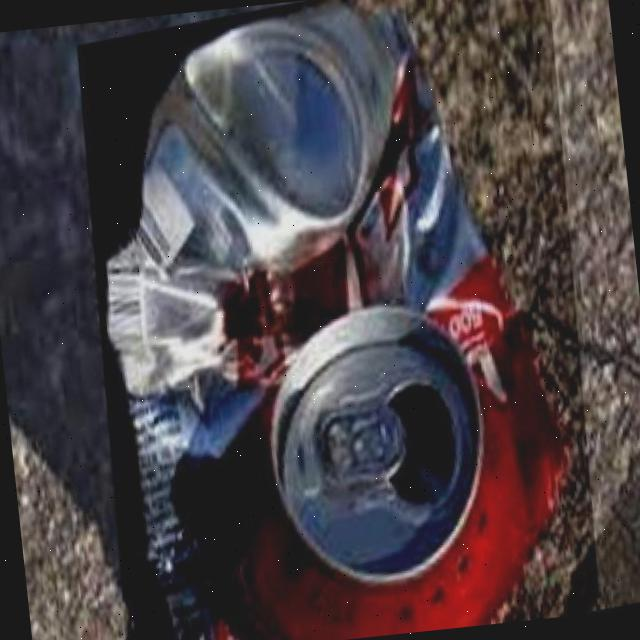trash: (64, 0, 616, 640)
